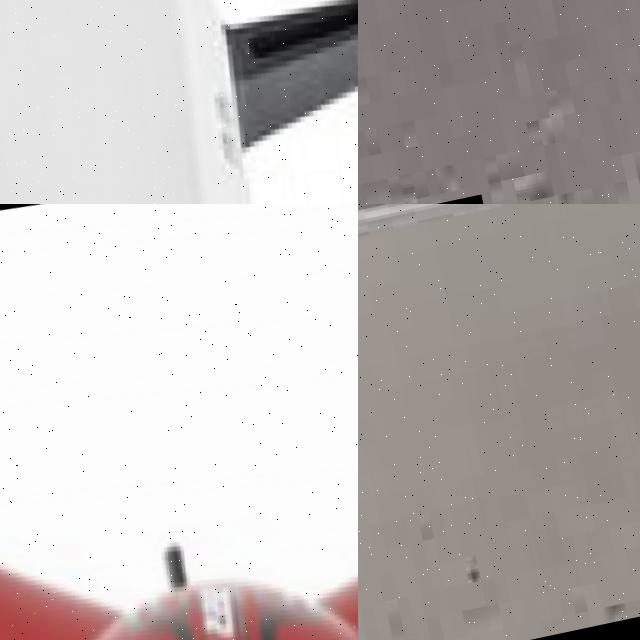drone: (0, 204, 358, 640), (0, 0, 358, 204)
